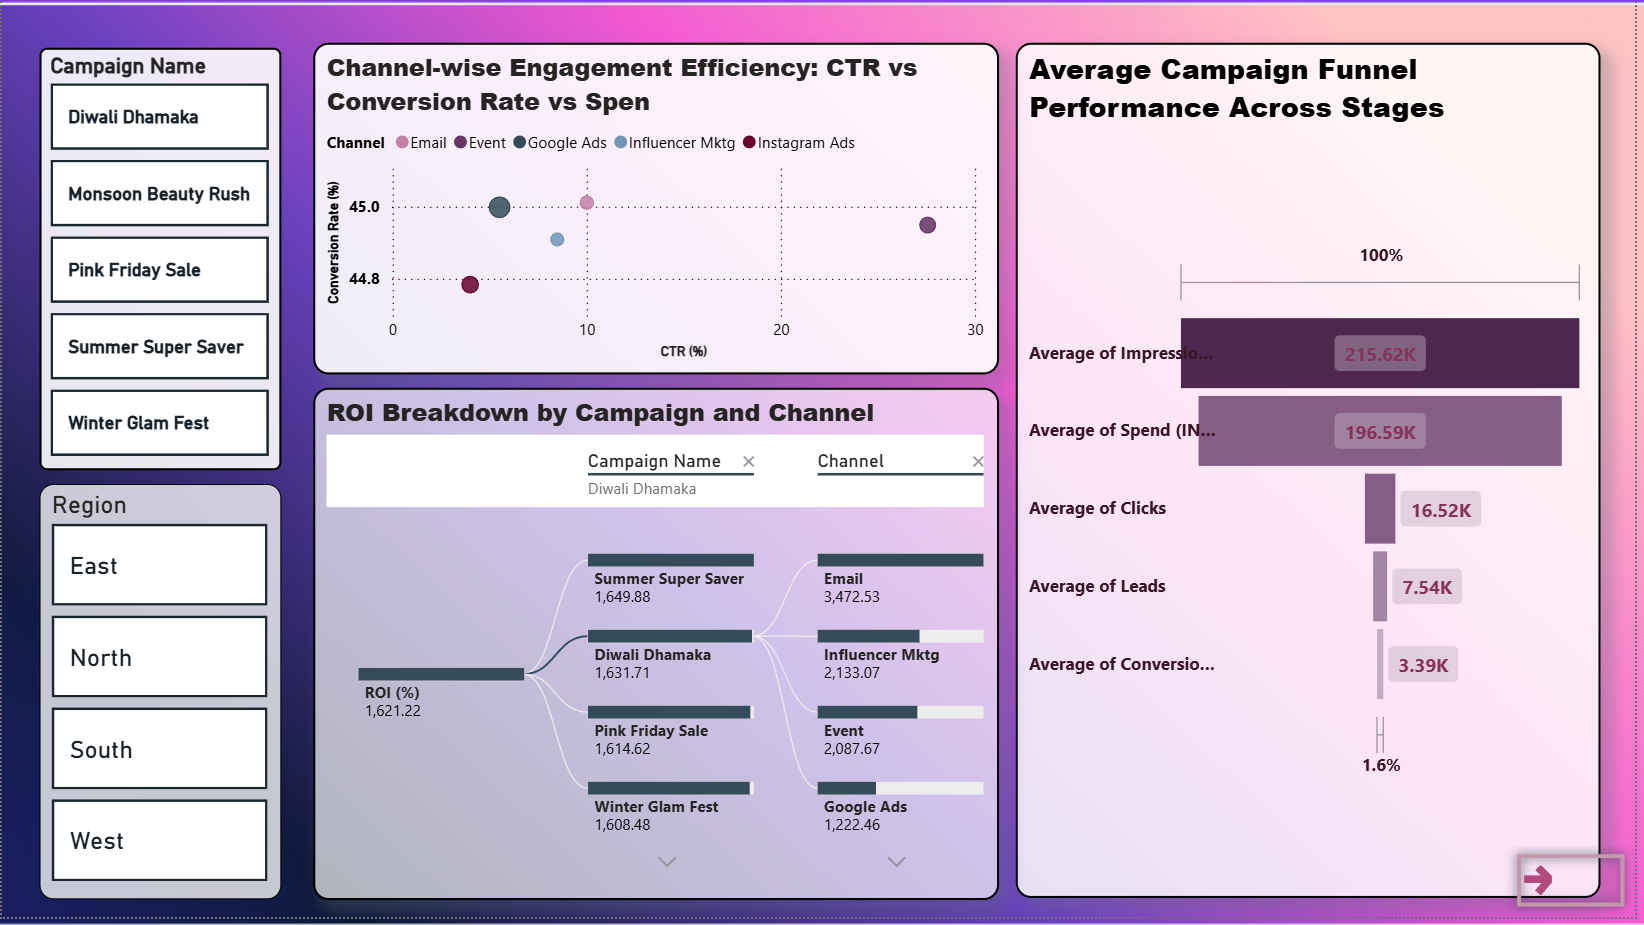

The dashboard page shown, as its layout file describes it:
{"tool":"powerbi","page":{"name":"Page 3","canvas":[1280,720],"ordinal":2},"visuals":[{"type":"funnel","title":"Average Campaign Funnel Performance Across Stages","fields":{"Y":["Avg(Sheet1.Impressions)","Avg(Sheet1.Spend (INR))","Avg(Sheet1.Clicks)","Avg(Sheet1.Leads)","Avg(Sheet1.Conversions)"]},"box":[794.9,34.7,458.4,670.8],"z":0},{"type":"scatterChart","title":"Channel-wise Engagement Efficiency: CTR vs Conversion Rate vs Spen","fields":{"X":["Sheet1.CTR (%)"],"Y":["Sheet1.Conversion Rate (%)"],"Size":["Sheet1.Total Spend (INR)"],"Series":["Sheet1.Channel"]},"box":[243.9,34.7,537.3,259.7],"z":1000},{"type":"decompositionTreeVisual","title":"ROI Breakdown by Campaign and Channel","fields":{"ExplainBy":["Sheet1.Campaign Name","Sheet1.Channel"],"Analyze":["Sheet1.ROI (%)"]},"box":[243.9,304.9,537.3,401.6],"z":2000},{"type":"advancedSlicerVisual","fields":{"Values":["Sheet1.Campaign Name"]},"box":[29.1,38.4,189.5,331.4],"z":3000},{"type":"advancedSlicerVisual","fields":{"Values":["Sheet1.Region"]},"box":[29.1,380.2,189.5,325.6],"z":4000},{"type":"actionButton","box":[1180.2,662.8,100,57],"z":5000}]}

Visuals, with their boxes in screenshot pixels (x1, y1, x2, y2), scaled from the page's 1280x720 canvas onto the 1644x925 screenshot:
"Average Campaign Funnel Performance Across Stages" funnel: [1021, 45, 1610, 906]
"Channel-wise Engagement Efficiency: CTR vs Conversion Rate vs Spen" scatterChart: [313, 45, 1003, 378]
"ROI Breakdown by Campaign and Channel" decompositionTreeVisual: [313, 392, 1003, 908]
advancedSlicerVisual - Sheet1.Campaign Name: [37, 49, 281, 475]
advancedSlicerVisual - Sheet1.Region: [37, 488, 281, 907]
actionButton: [1516, 852, 1643, 924]
